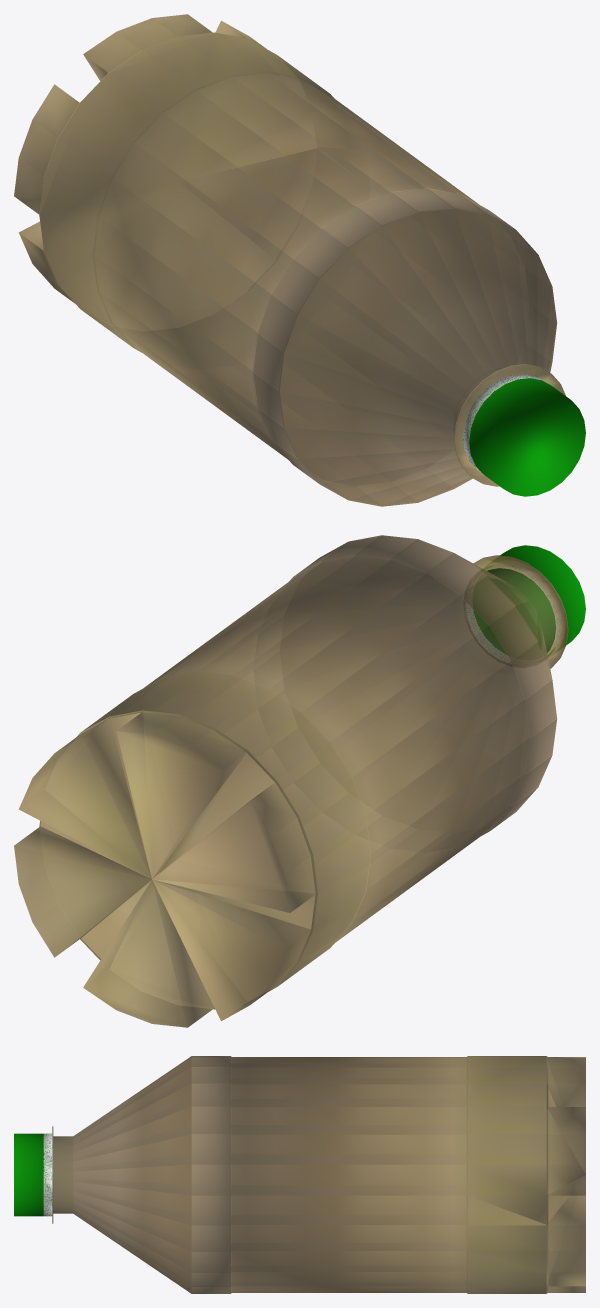
The model's file is model_align.obj.
3 renders of one model, top to bottom at view 1: azimuth 30°, elevation 25°; view 2: azimuth 150°, elevation 25°; view 3: azimuth 270°, elevation 25°, orthographic. The views are drawn at different scales.
Visible parts, largest first — view 1: mesh1_mesh1-geometry, mesh2_mesh2-geometry; view 2: mesh1_mesh1-geometry, mesh2_mesh2-geometry; view 3: mesh1_mesh1-geometry, mesh2_mesh2-geometry.
Boxes of the visible parts, x1=… form: mesh1_mesh1-geometry: x1=14, y1=14, x2=585, y2=506; mesh2_mesh2-geometry: x1=253, y1=189, x2=555, y2=504; mesh1_mesh1-geometry: x1=14, y1=535, x2=585, y2=1027; mesh2_mesh2-geometry: x1=253, y1=537, x2=555, y2=852; mesh1_mesh1-geometry: x1=14, y1=1056, x2=585, y2=1293; mesh2_mesh2-geometry: x1=192, y1=1057, x2=230, y2=1292.
Bounding box in the file's own units: 0.0918 × 0.0918 × 0.2199.
